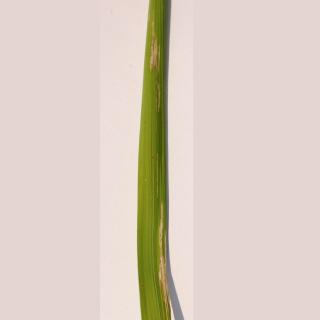Hawar-Daun: (146, 199, 180, 314), (146, 21, 175, 113)
